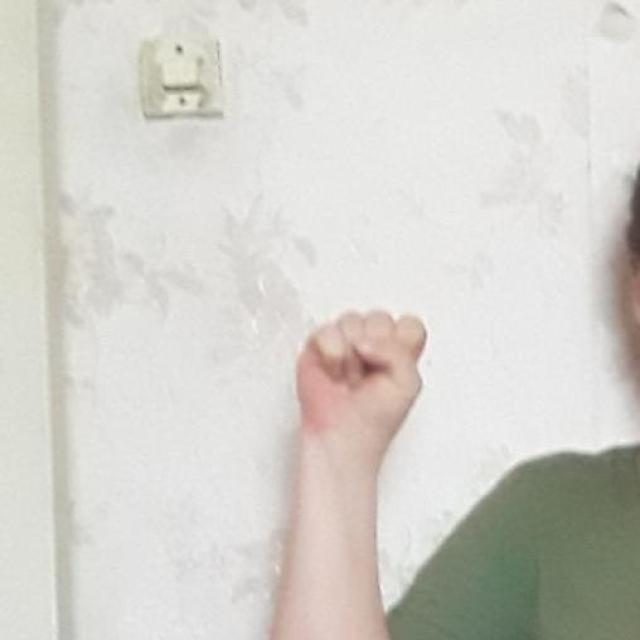hand: (294, 306, 427, 460)
